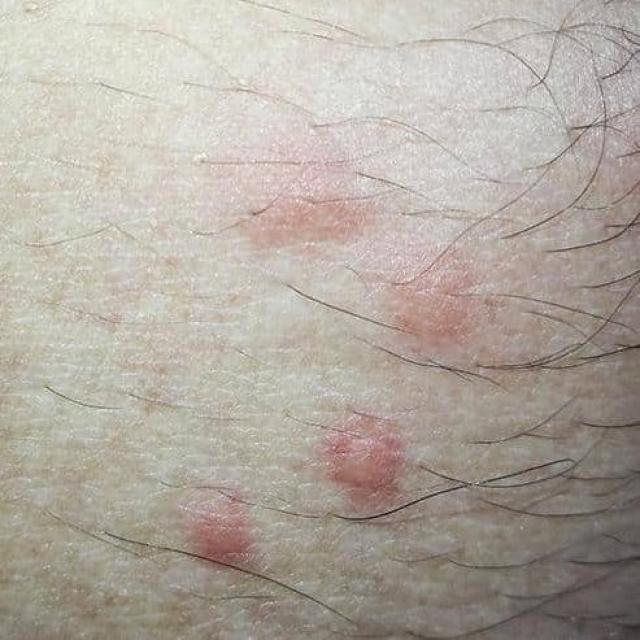kan emici bocekler: (313, 411, 449, 542), (238, 161, 377, 268), (147, 495, 292, 592), (390, 258, 507, 366)
